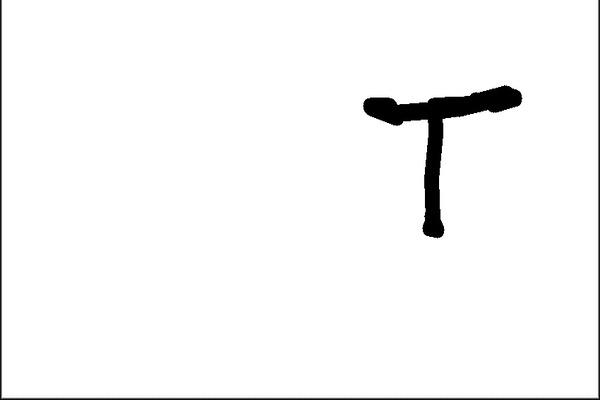T: (354, 77, 525, 236)
